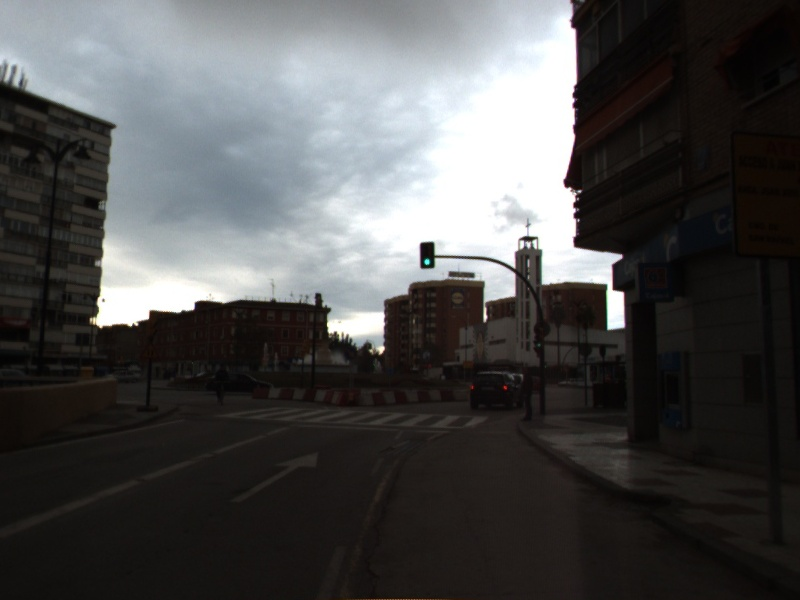STRAIGHT: (227, 449, 321, 505)
